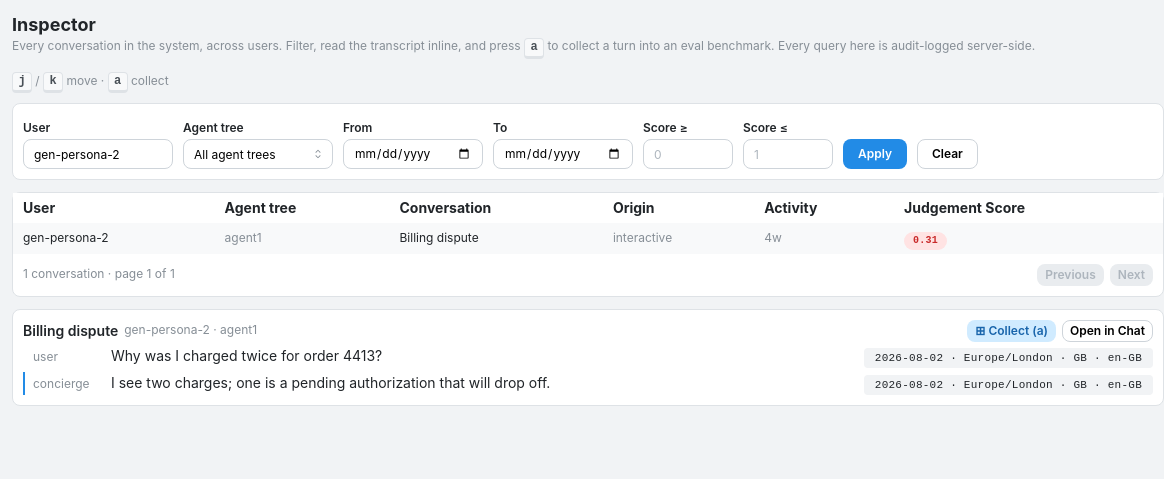
Scenario: inspector table › keeps applied filters in the URL and clears them again
Expected: the number of rows with test id "inspector-row" is 1, [13, 223, 1163, 254]
Expected: the field labelled "User" holds "gen-persona-2", [23, 139, 173, 169]
Click the button "Clear". click: (947, 154)
box: [917, 139, 978, 169]
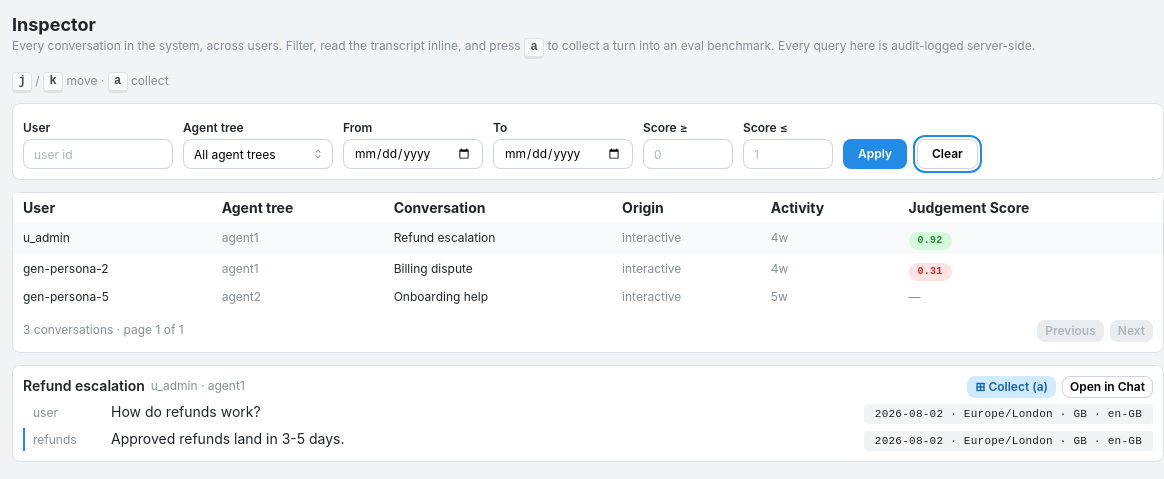
Now the number of rows with test id "inspector-row" is 3, box [13, 223, 1163, 254]; [13, 254, 1163, 285]; [13, 285, 1163, 310]
